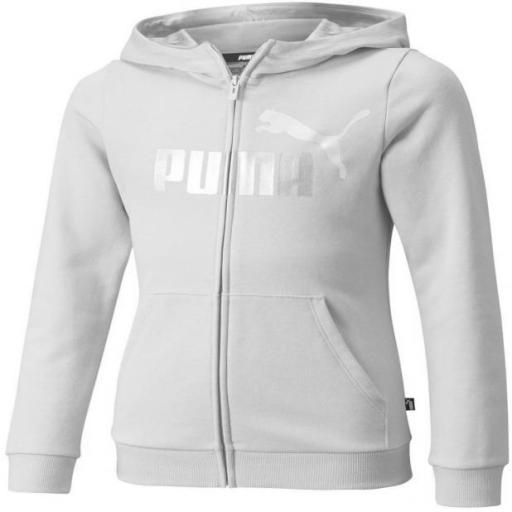Puma: (252, 105, 371, 182)
